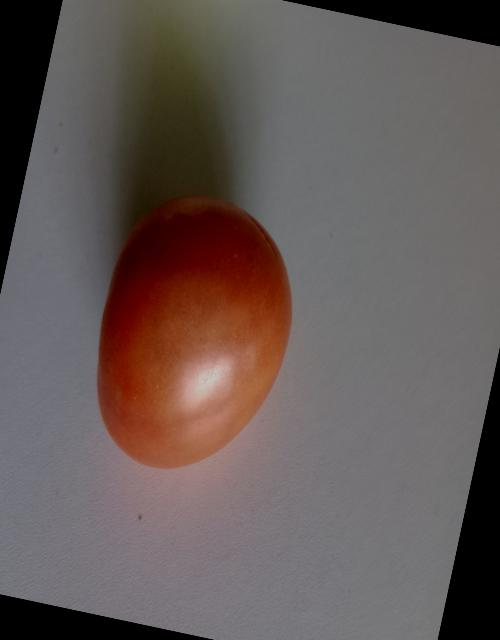Tomate: (34, 147, 336, 530)
